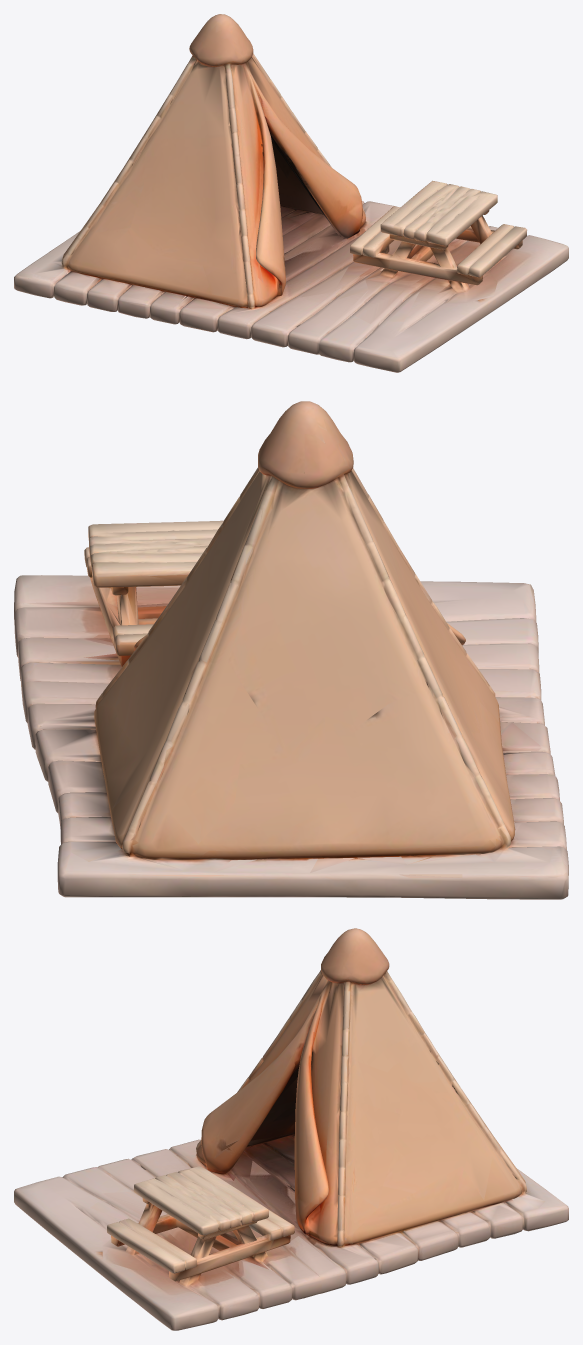
Rendered from tenda-meja.glb.
The picture shows the model from 3 angles, top to bottom: view 1: azimuth 30°, elevation 25°; view 2: azimuth 150°, elevation 25°; view 3: azimuth 270°, elevation 25°; orthographic projection. The views are drawn at different scales.
Visible parts, largest first — view 1: node_0; view 2: node_0; view 3: node_0.
Part boxes in pixels (x1,y1,x2,y2): node_0: (14,14,568,372); node_0: (14,401,568,899); node_0: (14,928,568,1330).
Size of the model in its own units: 0.9981 by 0.5282 by 0.9983.
1 material, 1 textured.
